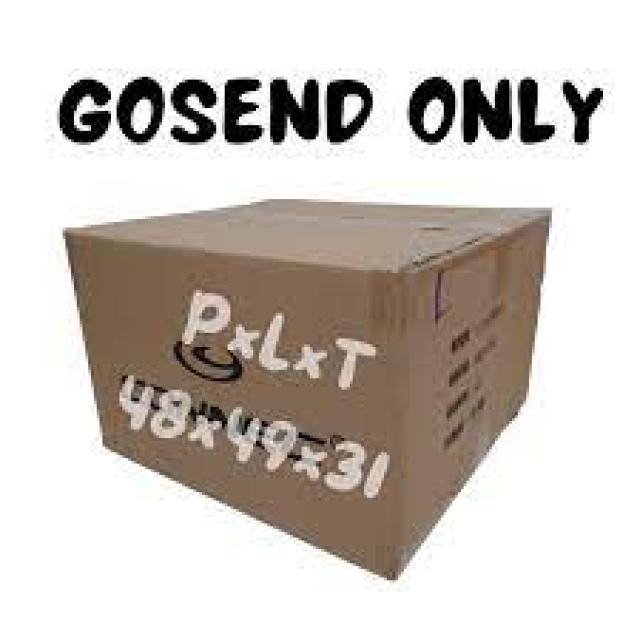Kardus kondisi bagus: (69, 199, 547, 580)
